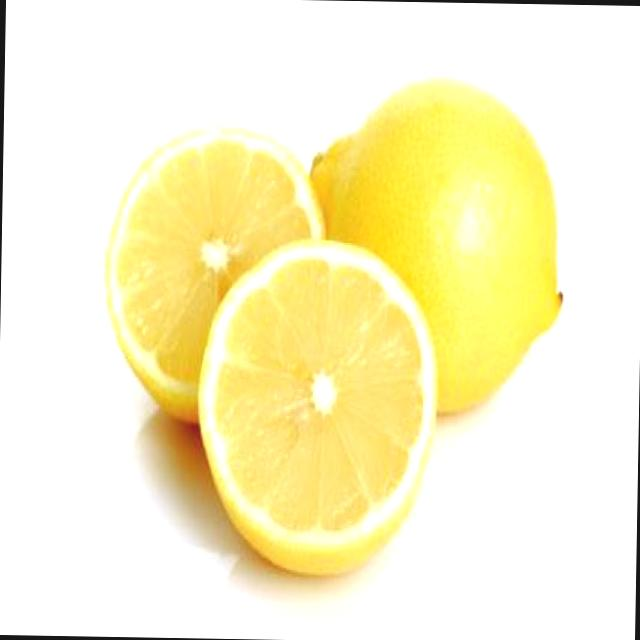lemon: (300, 80, 582, 430), (195, 232, 440, 576), (103, 130, 326, 412)
